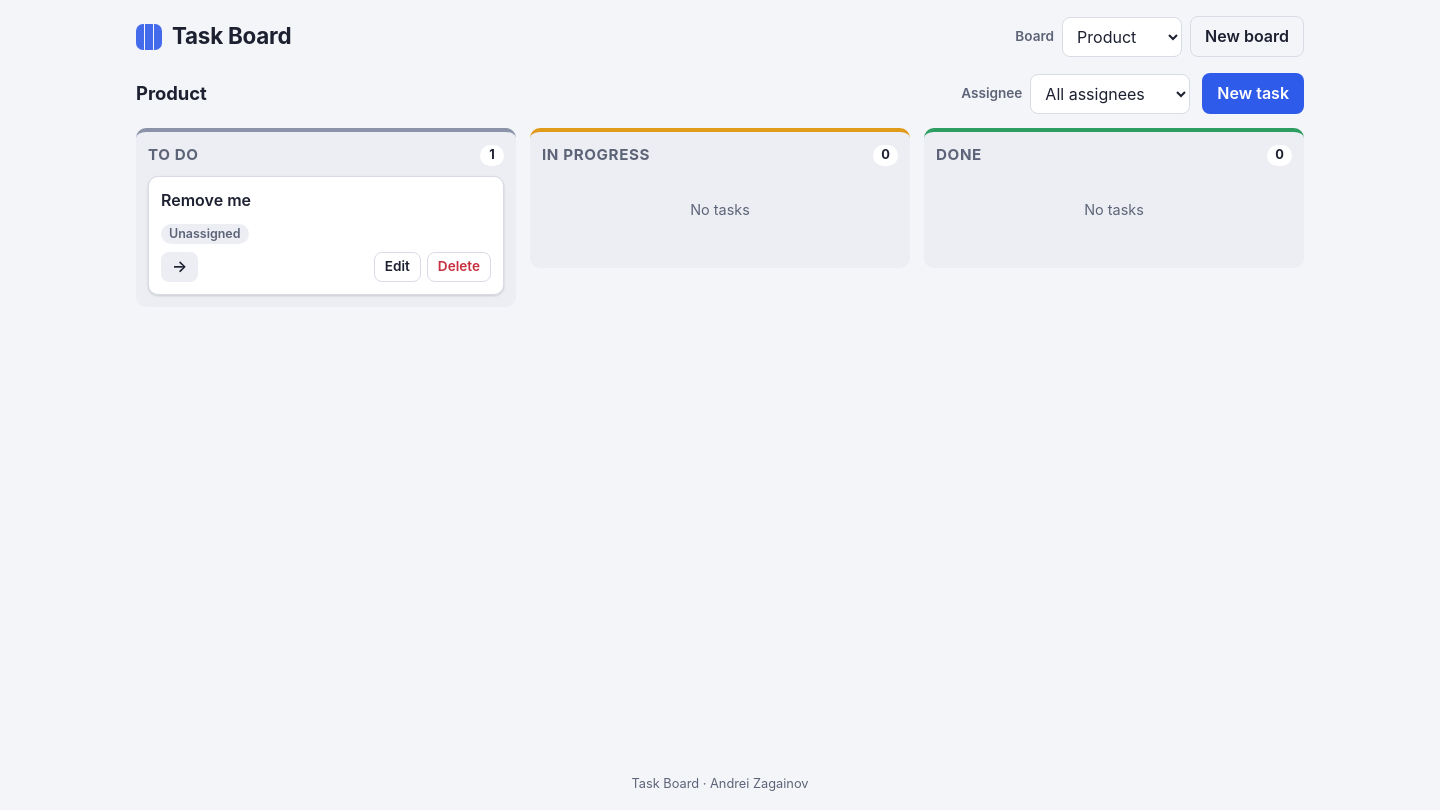
Test case: App › deletes a task after confirmation
Click the button named "Delete \"Remove me\"" at (459, 267), box [427,252,491,282]
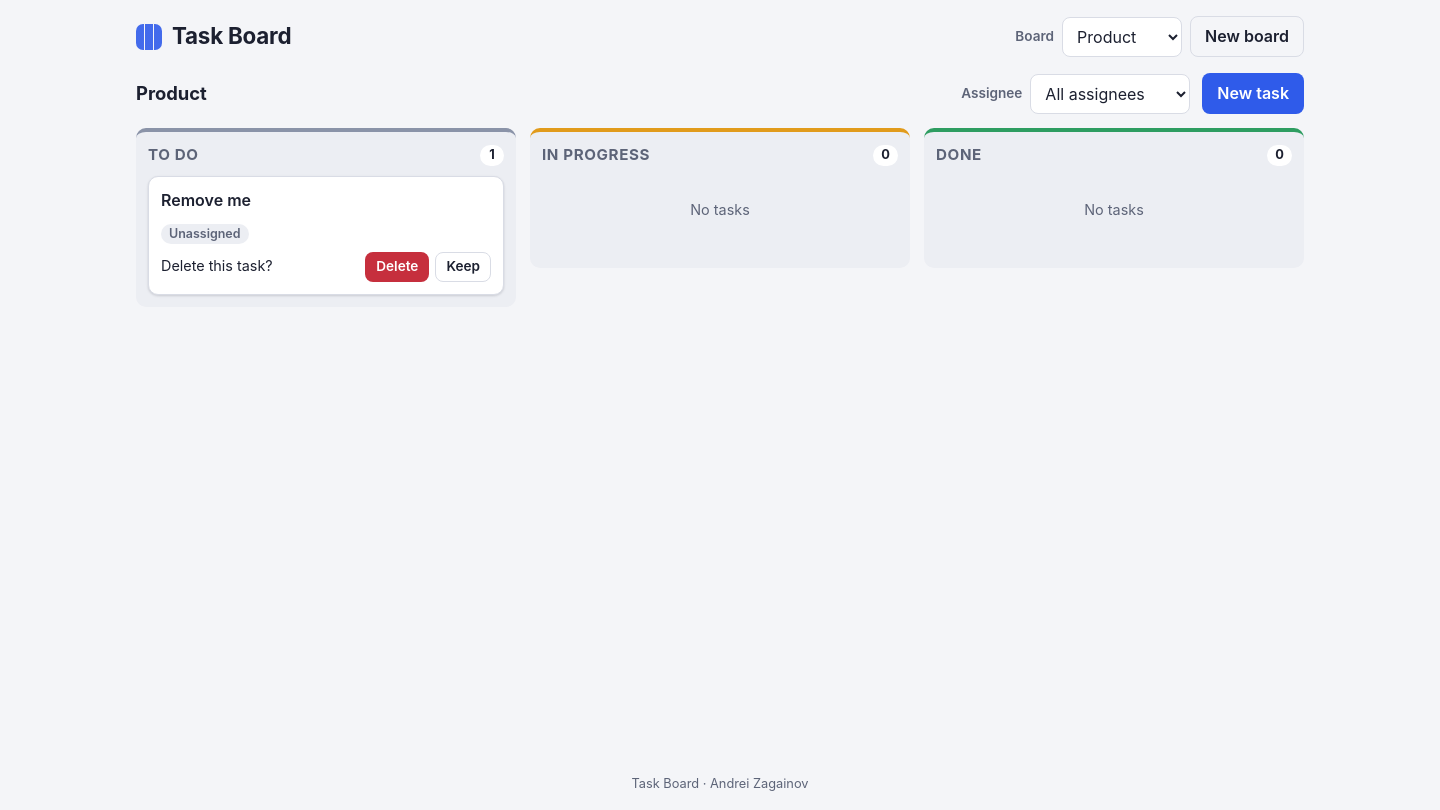
Click the button with test id "confirm-delete" at (397, 267), box [365,252,430,282]
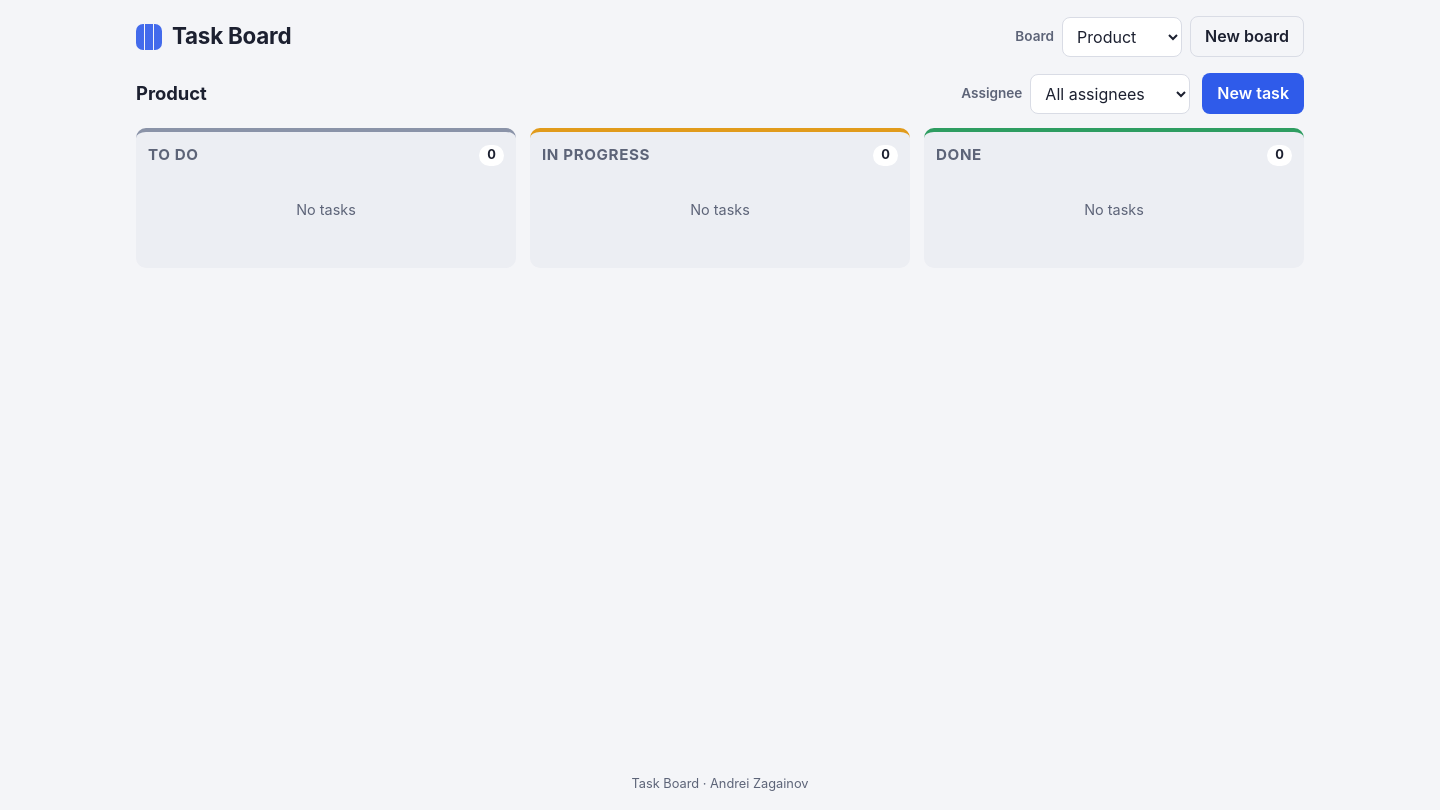
expect the heading "Remove me" is gone: met
